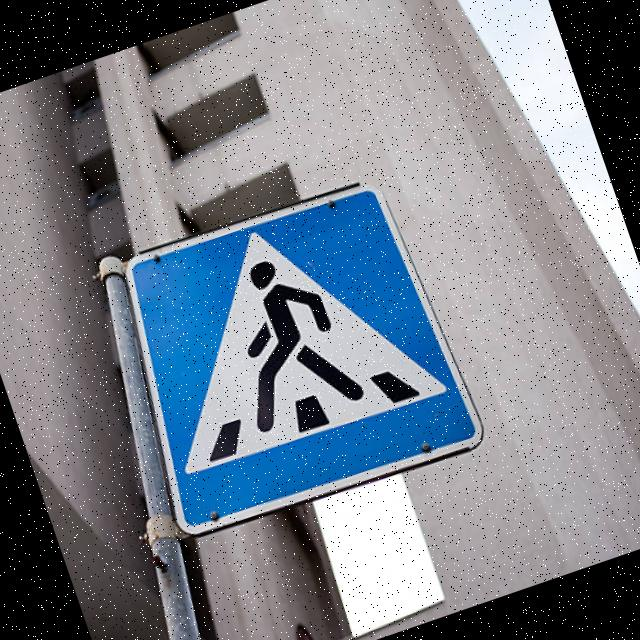crosswalk: (86, 150, 499, 565)
